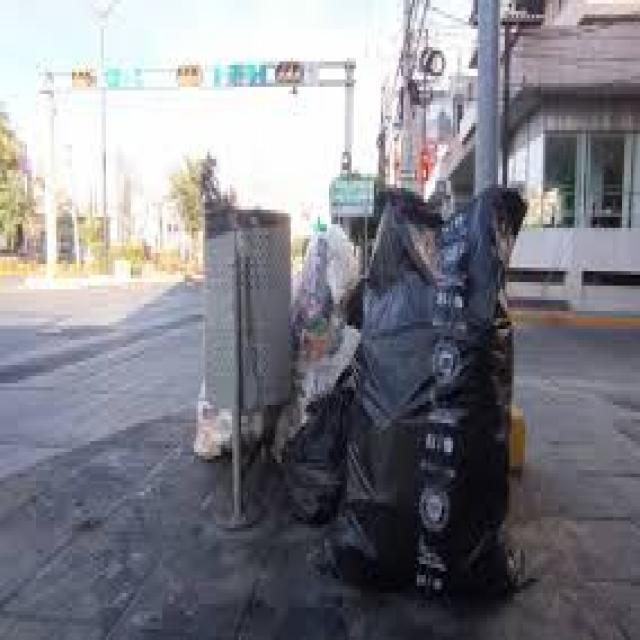garbage: (289, 131, 529, 625), (192, 376, 288, 480)
